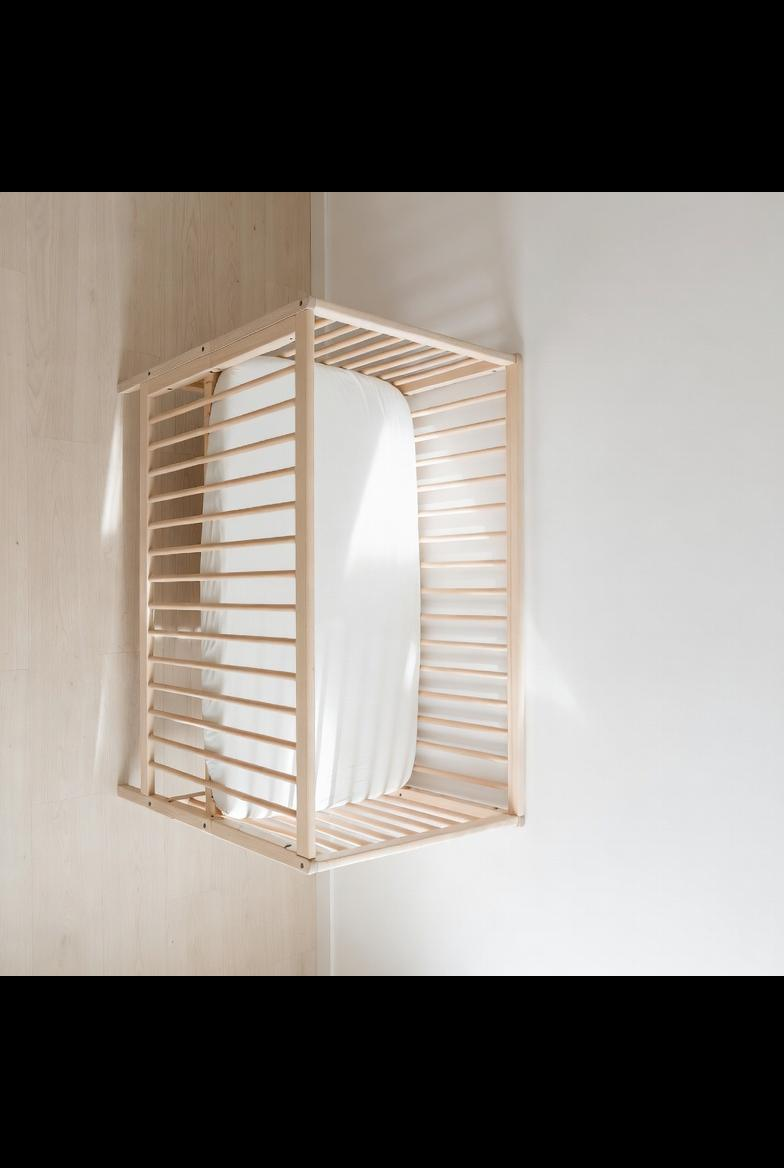crib: (118, 299, 523, 873)
